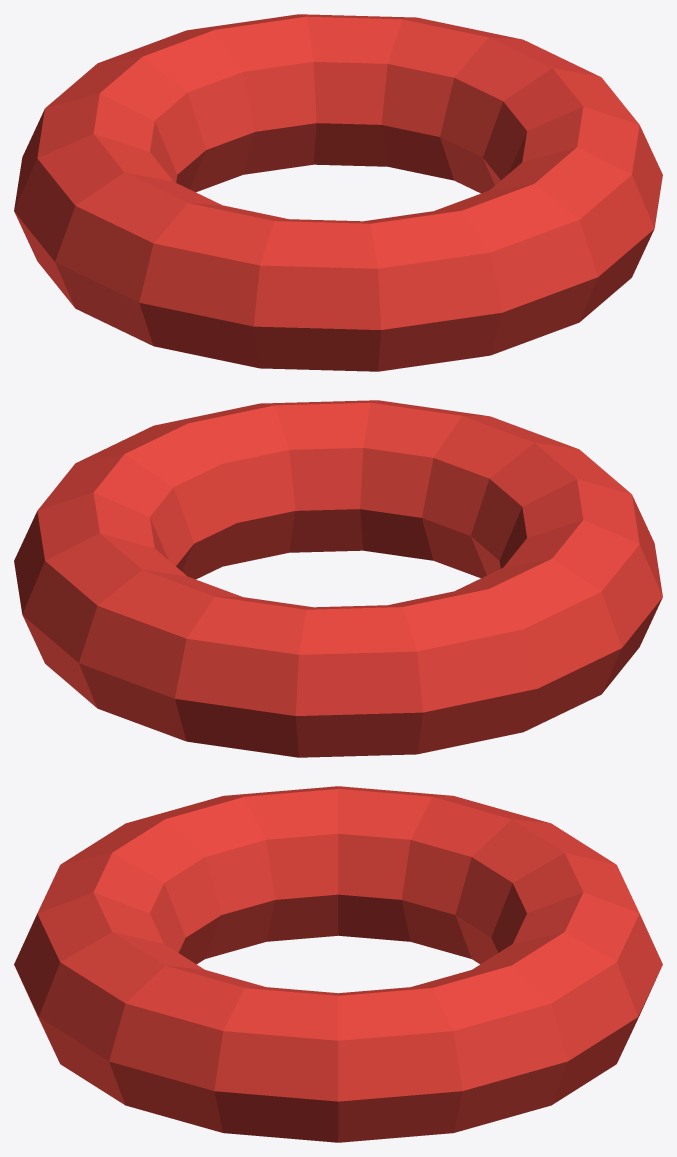
The model's file is prop_swim_ring.glb.
3 views of the same model, one above another, from view 1: azimuth 30°, elevation 25°; view 2: azimuth 150°, elevation 25°; view 3: azimuth 270°, elevation 25° (orthographic).
Parts seen in each view (by area): view 1: Torus; view 2: Torus; view 3: Torus.
Boxes of the visible parts, x1,y1,x2,y2 form: Torus: [14, 14, 662, 371]; Torus: [14, 400, 662, 757]; Torus: [14, 786, 662, 1142].
Bounding box in the file's own units: 1.06 × 0.26 × 1.06.
